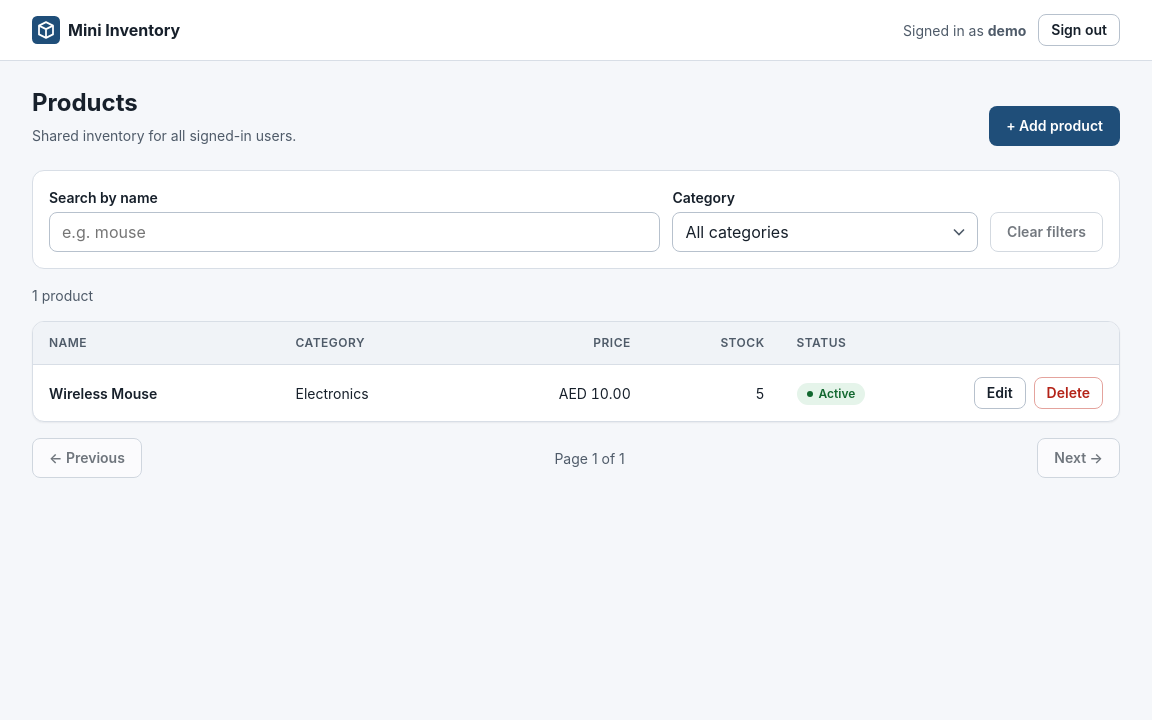
Test case: delete product › keeps the dialog open with an error when deletion fails
This screenshot has width=1152, height=720.
Click the button with aria-label "Delete Wireless Mouse".
click(1068, 393)  # box [1034,377,1103,409]
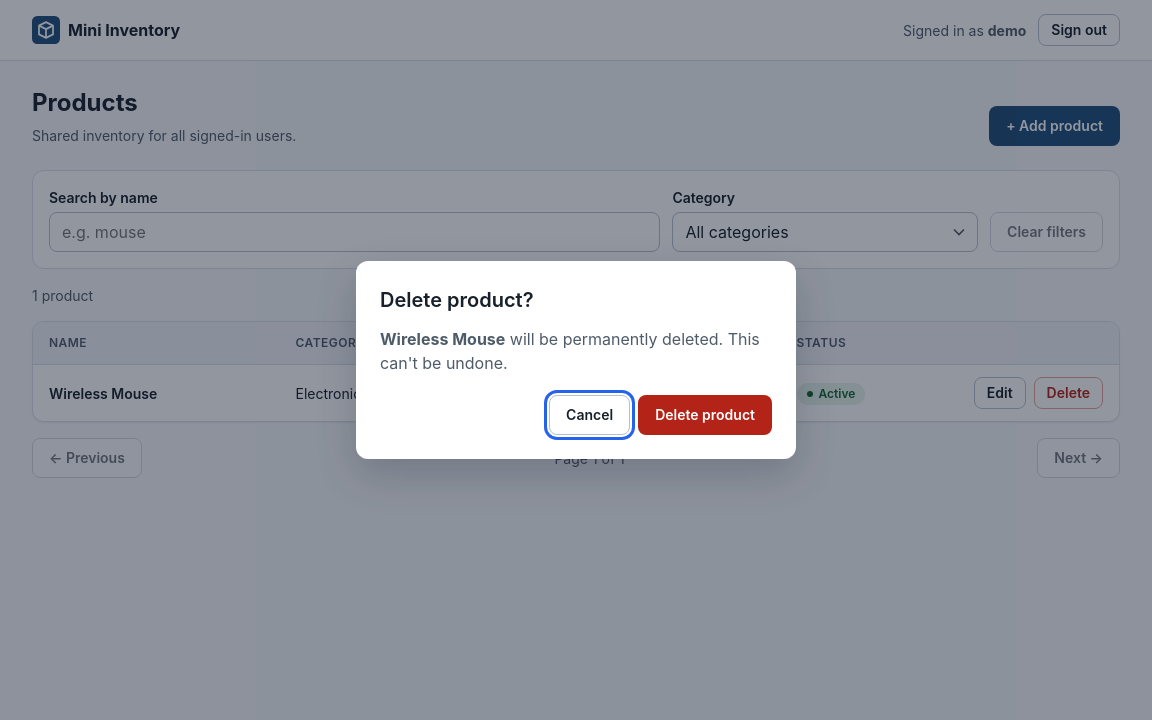
Click the button "Delete product".
click(705, 415)  # box [638,395,772,435]
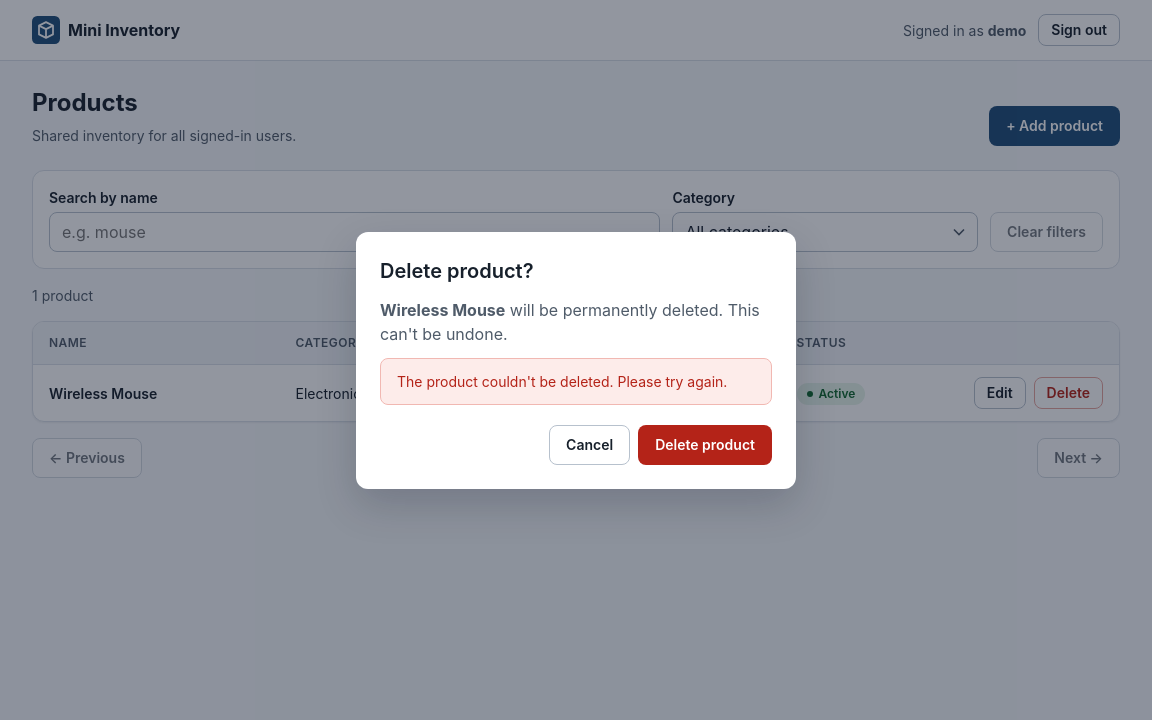
Expected: the cell "Wireless Mouse" is shown, [33,365,280,421]
Expected: the dialog is shown, [356,232,796,488]
Expected: the message shows "The product couldn't be deleted.", [397,372,727,390]
// Retry succeeds.
Click the button "Delete product".
click(705, 444)  # box [638,424,772,464]
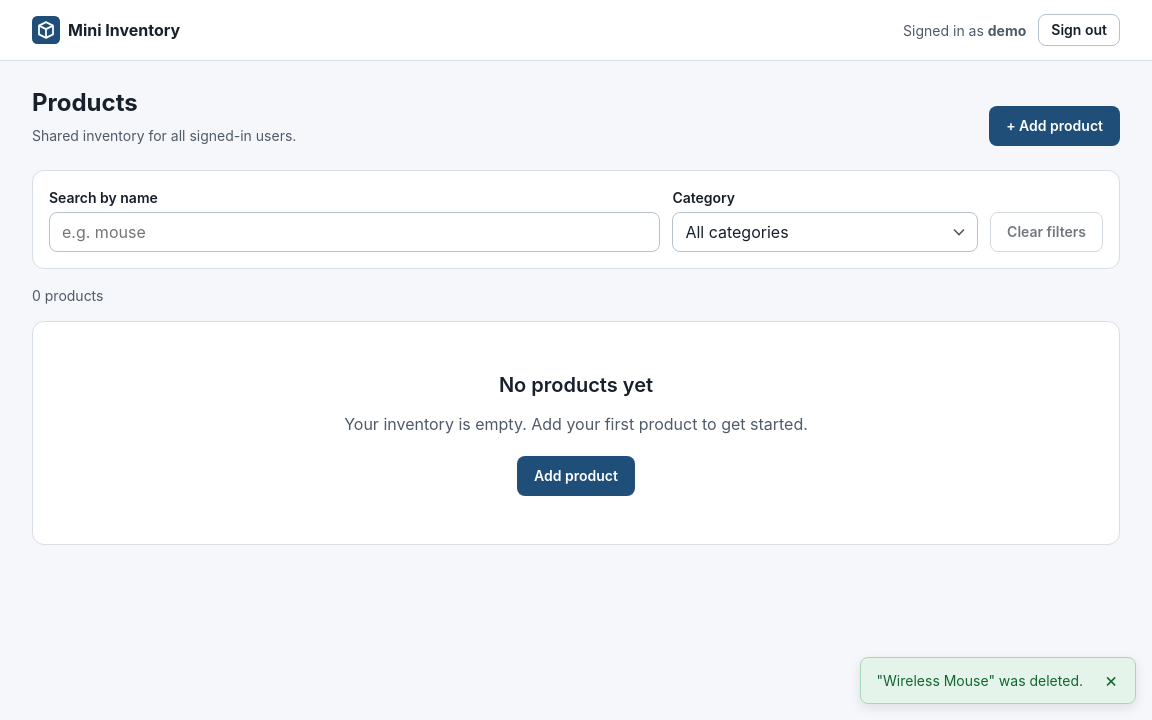
Expected: the text "\"Wireless Mouse\" was deleted." is shown, [876,670,1083,691]
